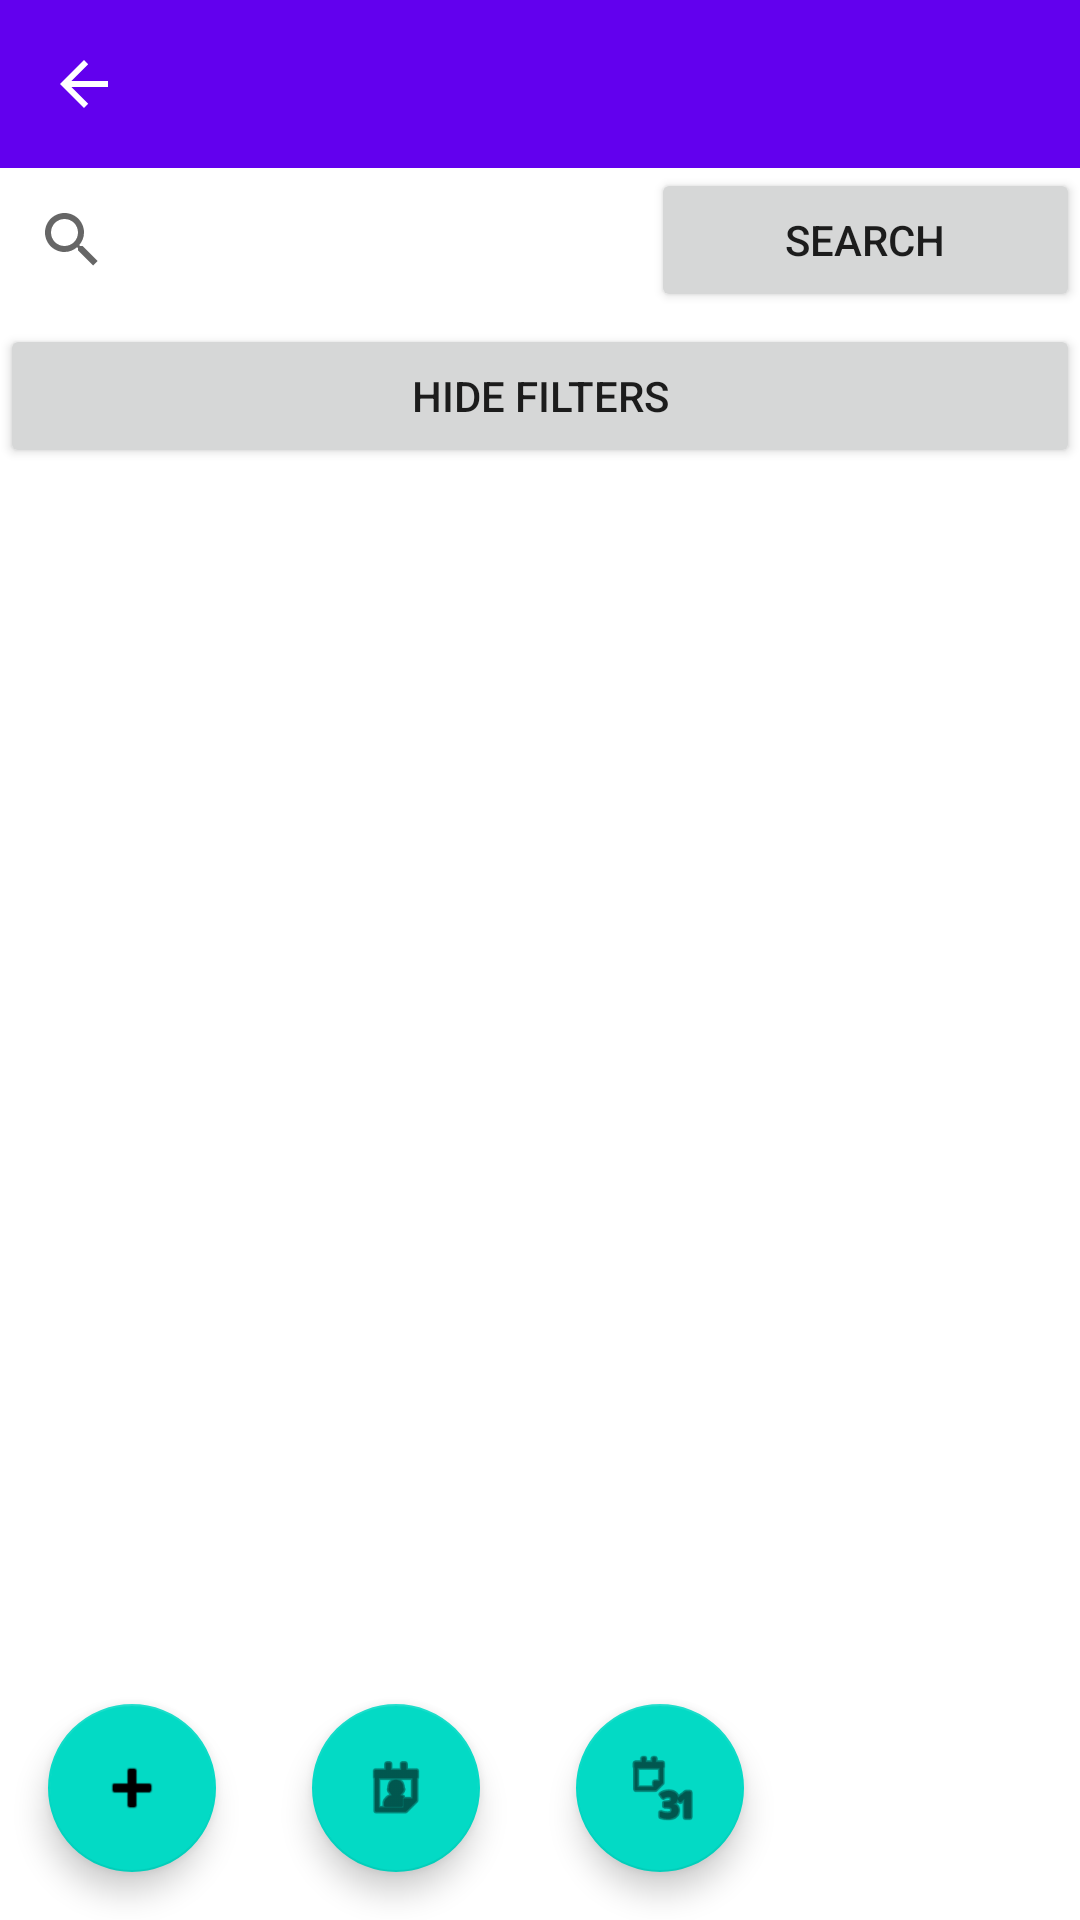

Named icons in this screenshot (1080 x 1920) and their bounding boxes, (x1, y1, x2, y2):
add: (48, 1704, 216, 1872)
month: (576, 1704, 744, 1872)
